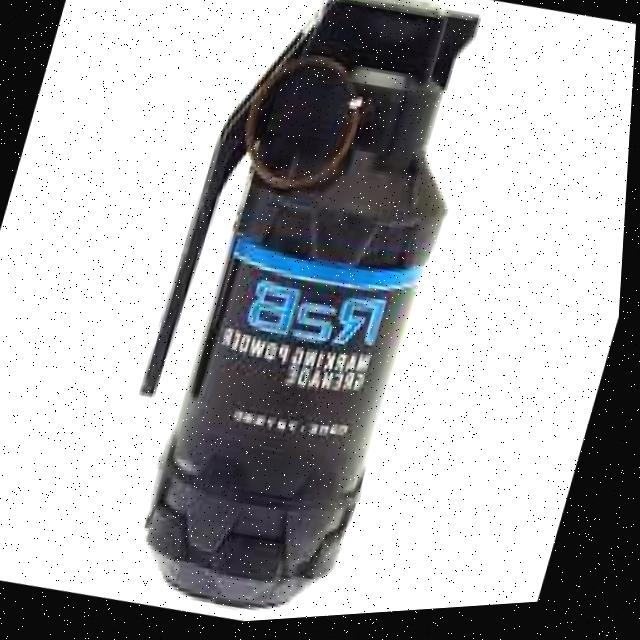grenade: (87, 0, 507, 634)
